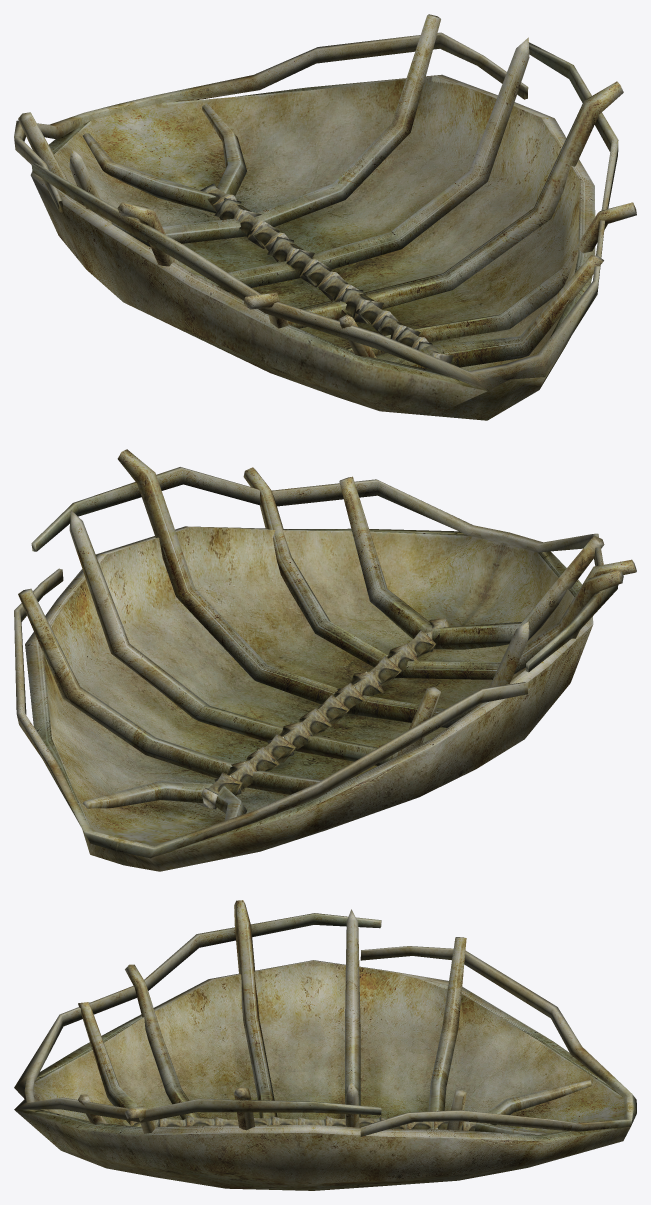
Rendered from bone_turtle_shell00.fbx.
3 renders of one model, top to bottom at view 1: azimuth 30°, elevation 25°; view 2: azimuth 150°, elevation 25°; view 3: azimuth 270°, elevation 25°, orthographic. The views are drawn at different scales.
Visible parts, largest first — view 1: bone_turtle_shell00; view 2: bone_turtle_shell00; view 3: bone_turtle_shell00.
Part boxes in pixels (bbox=[...]): bone_turtle_shell00: bbox=[14, 14, 636, 420]; bone_turtle_shell00: bbox=[14, 449, 636, 871]; bone_turtle_shell00: bbox=[14, 900, 636, 1190].
Size of the model in its own units: 7.41 by 3.24 by 10.25.
